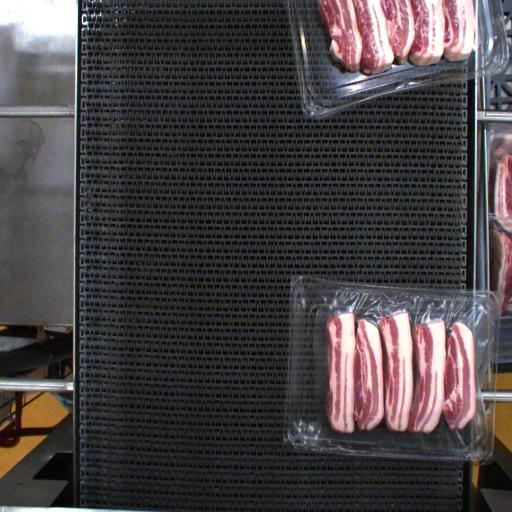unsealed: (312, 280, 491, 454)
